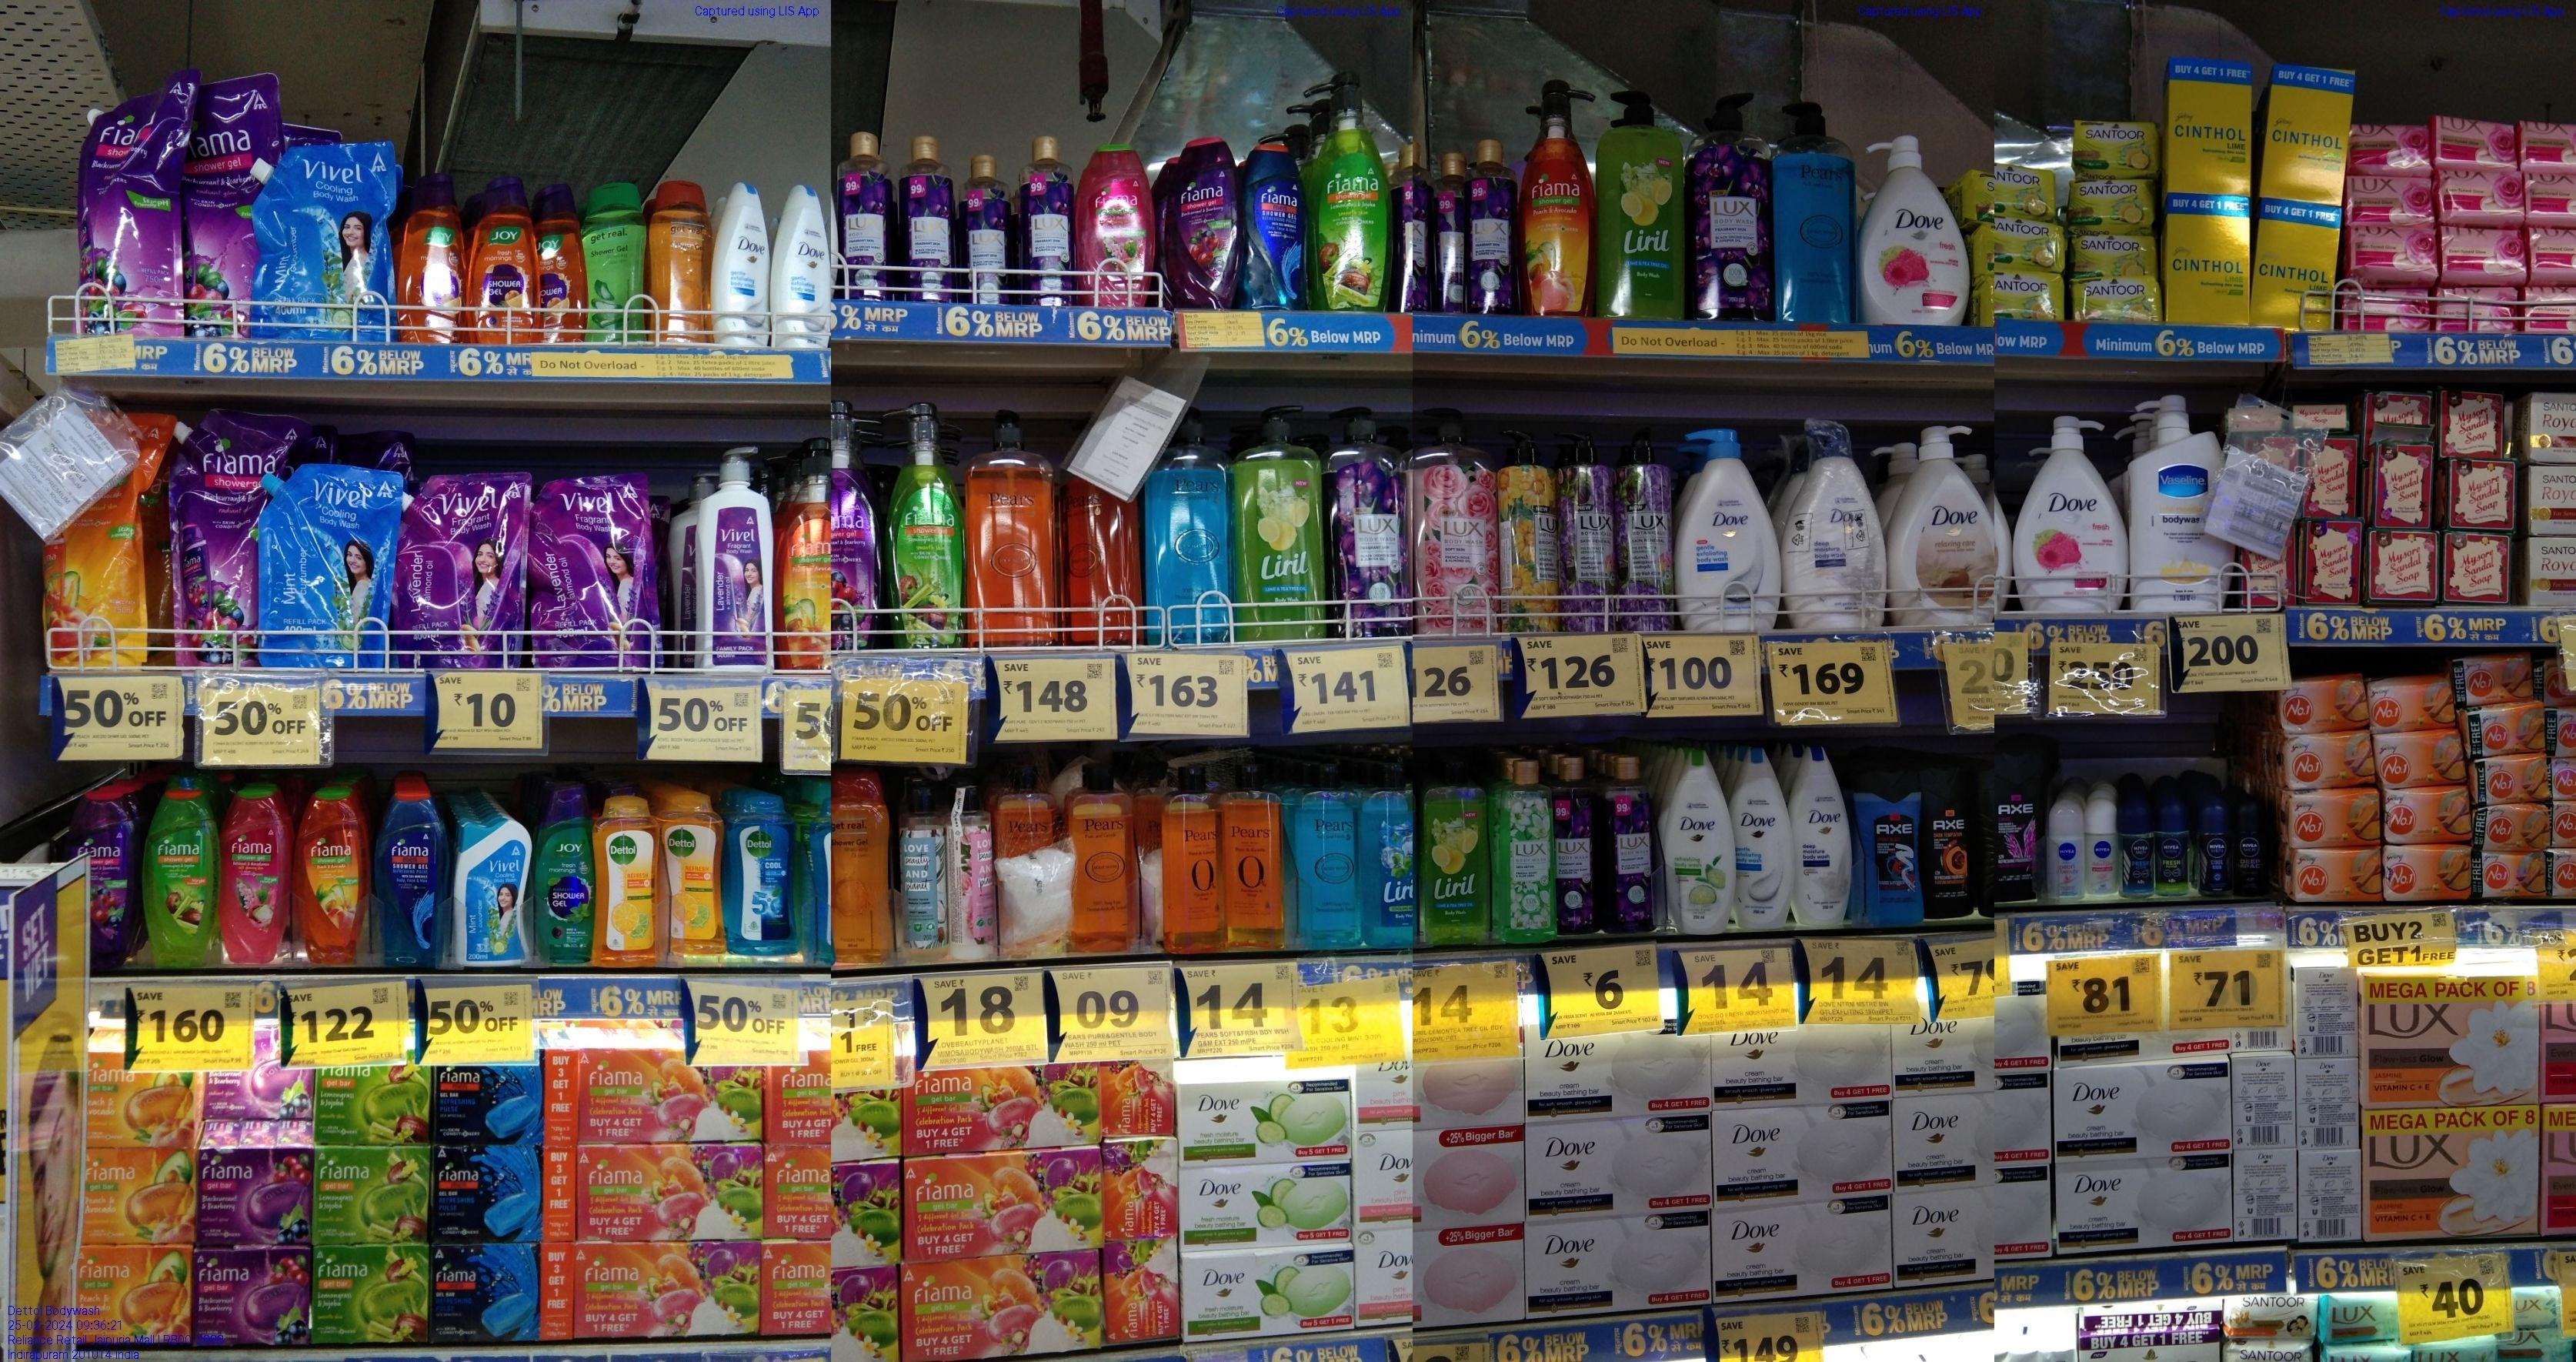Dettol_Bodywash_Cool: (731, 794, 797, 955)
Dettol_Bodywash_Refresh: (598, 799, 659, 967), (666, 794, 726, 956)
Dove_Deep_Moisture_Body_Wash_250ML: (1797, 745, 1854, 927)
Dove_Gentle_Exfoliating_Body_Wash_250ML: (1736, 750, 1794, 929), (773, 184, 833, 346), (716, 184, 772, 346)
Dove_Refreshing_Body_Wash_250ML: (1666, 748, 1734, 936)
Fiama_Shower_Gel_Lemongrass_and_Jojoba_250ML: (150, 786, 216, 972)
Fiama_Shower_Gel_Patchouli_and_Macadamia_250ML: (1080, 145, 1152, 307), (223, 791, 283, 960)
Fiama_Shower_Gel_Peach_and_Avocado_250ML: (300, 791, 363, 967)
Get_Real_Shower_Gel_Moisturising_Glycerin_300ML: (831, 776, 888, 960), (651, 181, 710, 343)
Joy_Shower_Gel_Mandarin_and_Lemongrass_250ML: (470, 176, 537, 344), (402, 174, 467, 344), (540, 184, 589, 341)
Joy_Shower_Gel_Mint_and_Eucalyptus_250ML: (533, 786, 593, 963)
Lux_Black_Orchid_Scent_and_Juniper_Oil_Body_Wash_245ML: (1019, 135, 1075, 305), (900, 138, 957, 302), (838, 131, 891, 300), (1469, 140, 1518, 310), (1555, 755, 1601, 931), (1612, 759, 1656, 932), (966, 153, 1012, 303)
Lux_Body_Wash_Skin_Detox_Freesia_Scent_and_Alove_Vera_245ML: (1496, 760, 1554, 934)
